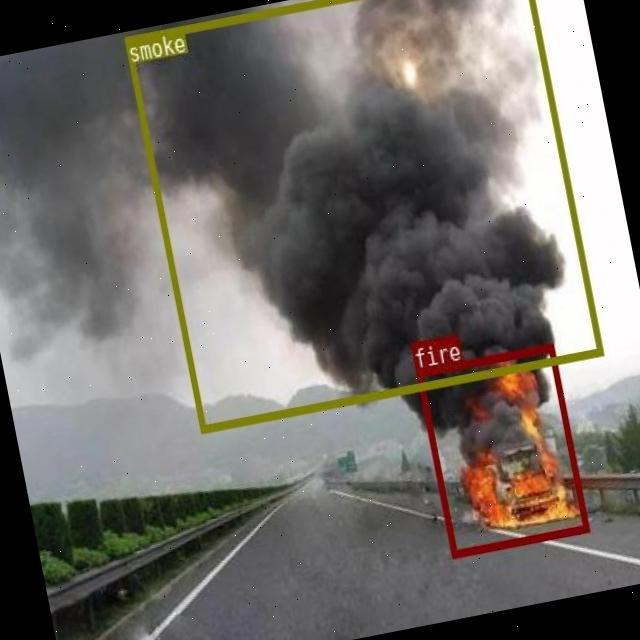fire: (415, 343, 589, 556)
smoke: (123, 0, 602, 432)
